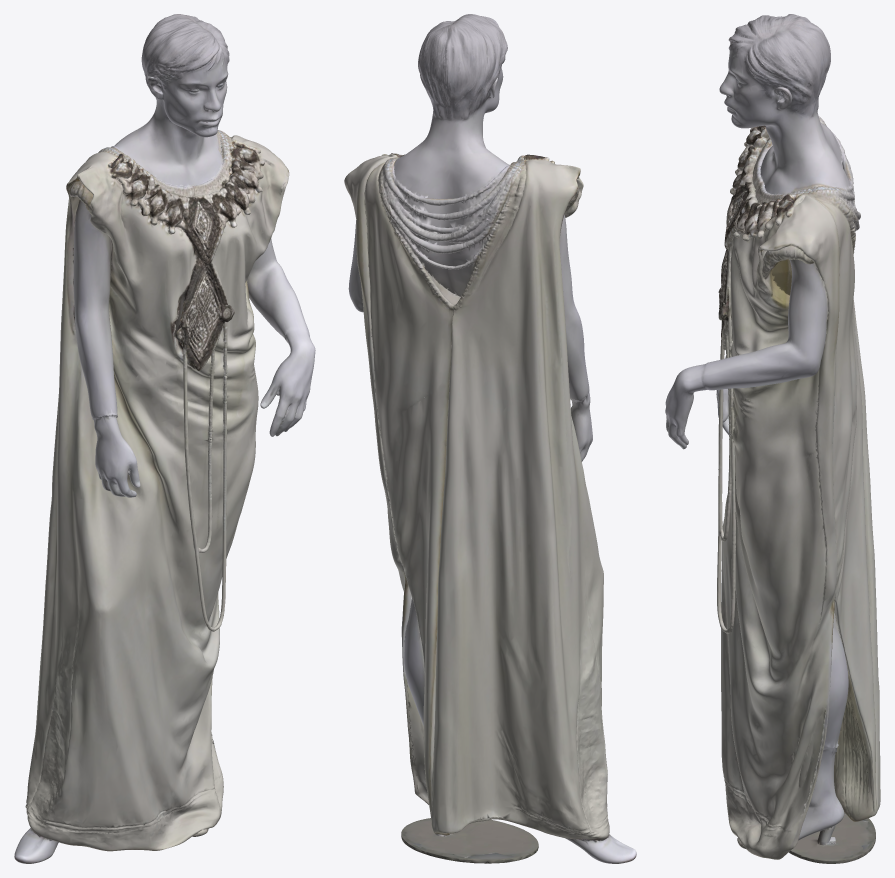
Rendered from 2024.08.007abc.glb.
The picture shows the model from 3 angles, left to right: view 1: azimuth 30°, elevation 25°; view 2: azimuth 150°, elevation 25°; view 3: azimuth 270°, elevation 25°; orthographic projection. The views are drawn at different scales.
Visible parts, largest first — view 1: tripo_node_dc4a81ae-442f-4b58-b0b0-5477e78e8124; view 2: tripo_node_dc4a81ae-442f-4b58-b0b0-5477e78e8124; view 3: tripo_node_dc4a81ae-442f-4b58-b0b0-5477e78e8124.
Part boxes in pixels (left/top/right/bottom): tripo_node_dc4a81ae-442f-4b58-b0b0-5477e78e8124: left=14, top=14, right=315, bottom=863; tripo_node_dc4a81ae-442f-4b58-b0b0-5477e78e8124: left=344, top=14, right=636, bottom=863; tripo_node_dc4a81ae-442f-4b58-b0b0-5477e78e8124: left=665, top=14, right=880, bottom=863.
Size of the model in its own units: 0.3536 by 0.9785 by 0.2305.
Materials: 1 (1 with a texture image).
